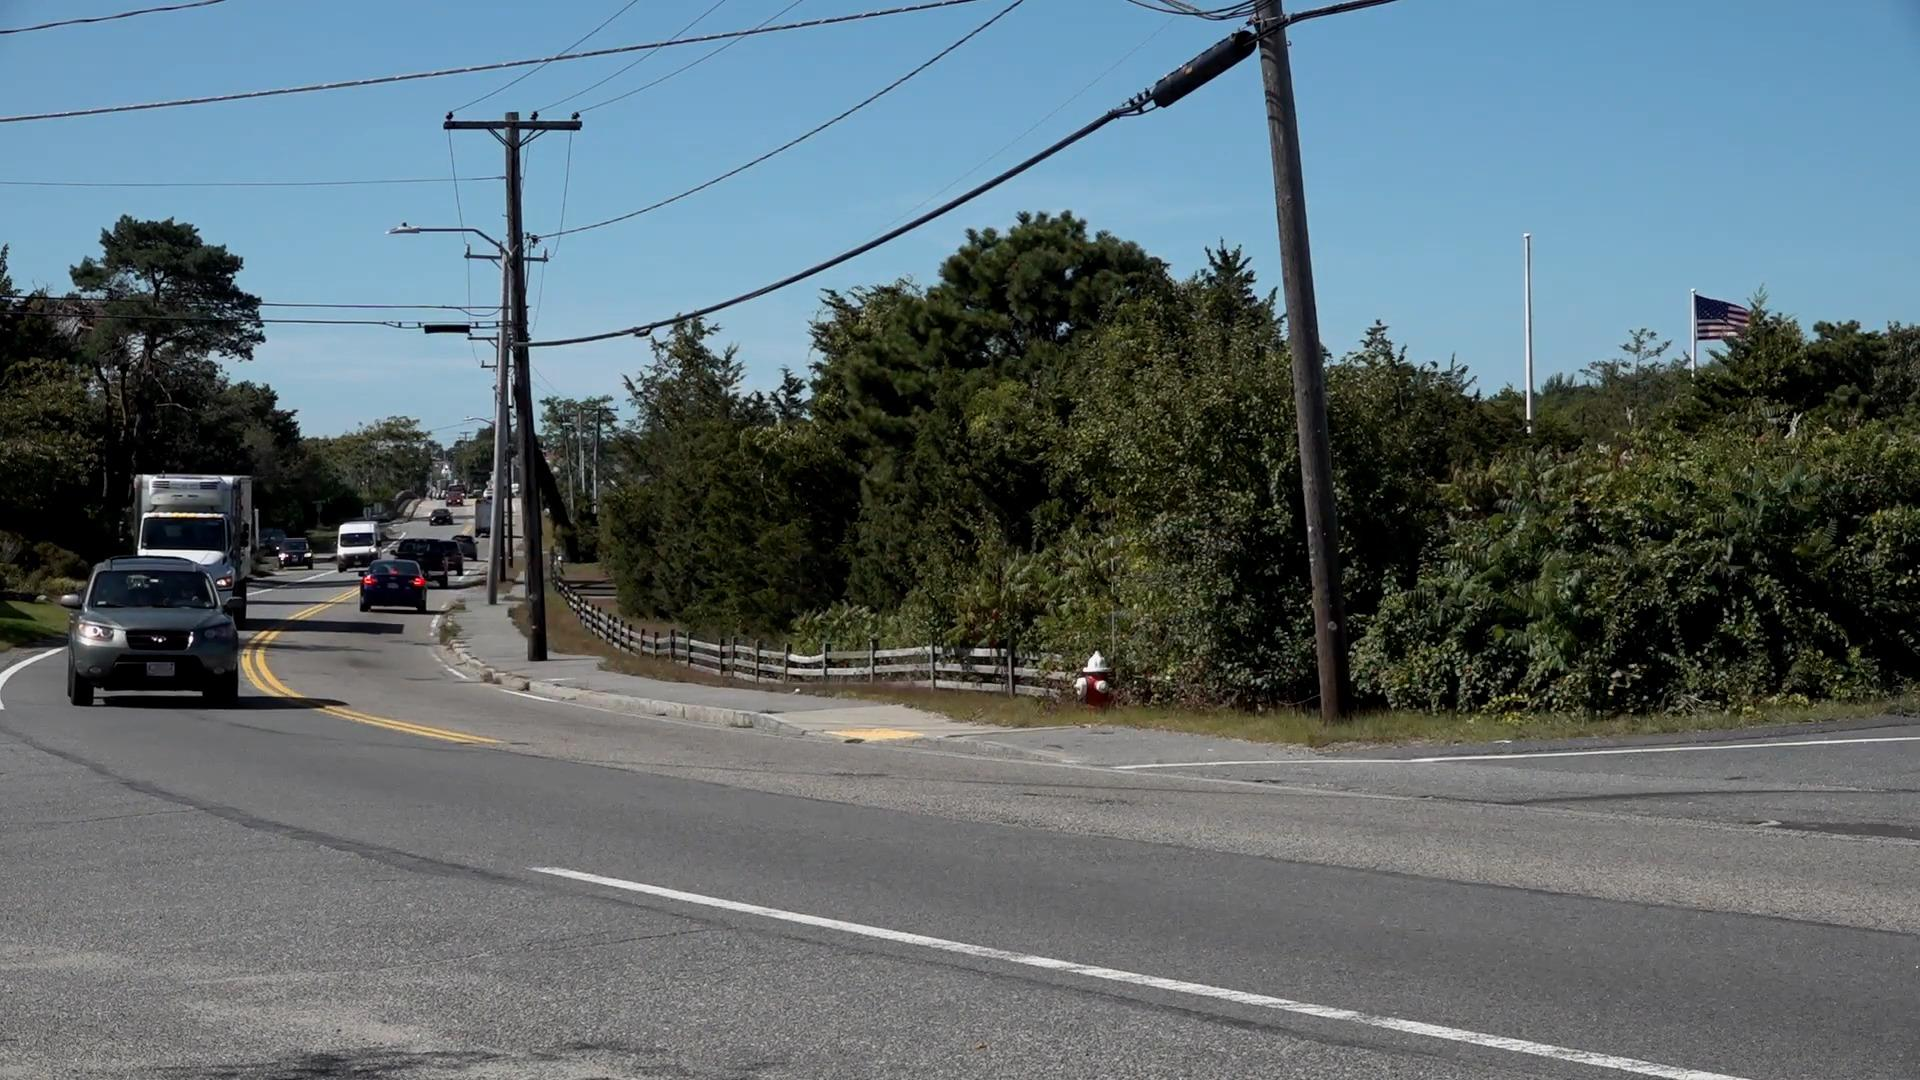minivan: (328, 514, 379, 577)
sedans: (354, 558, 432, 620)
suv: (64, 548, 245, 708)
truck: (121, 464, 252, 624), (176, 528, 181, 528)
